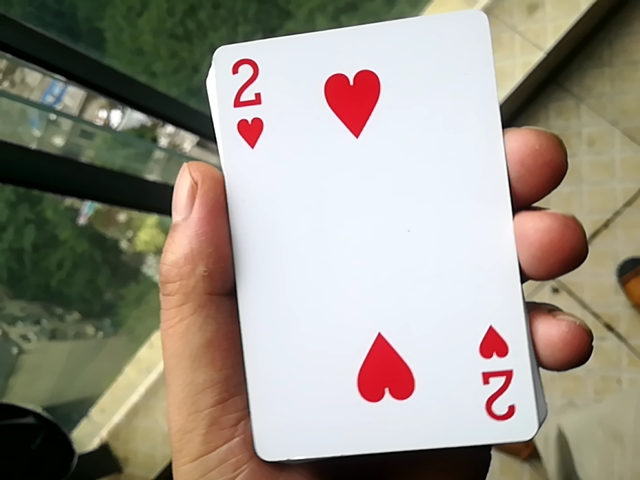hx 2: (194, 11, 535, 465)
